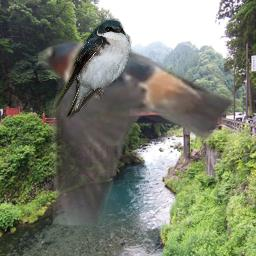Swallow: (38, 33, 240, 225), (55, 16, 133, 119)
